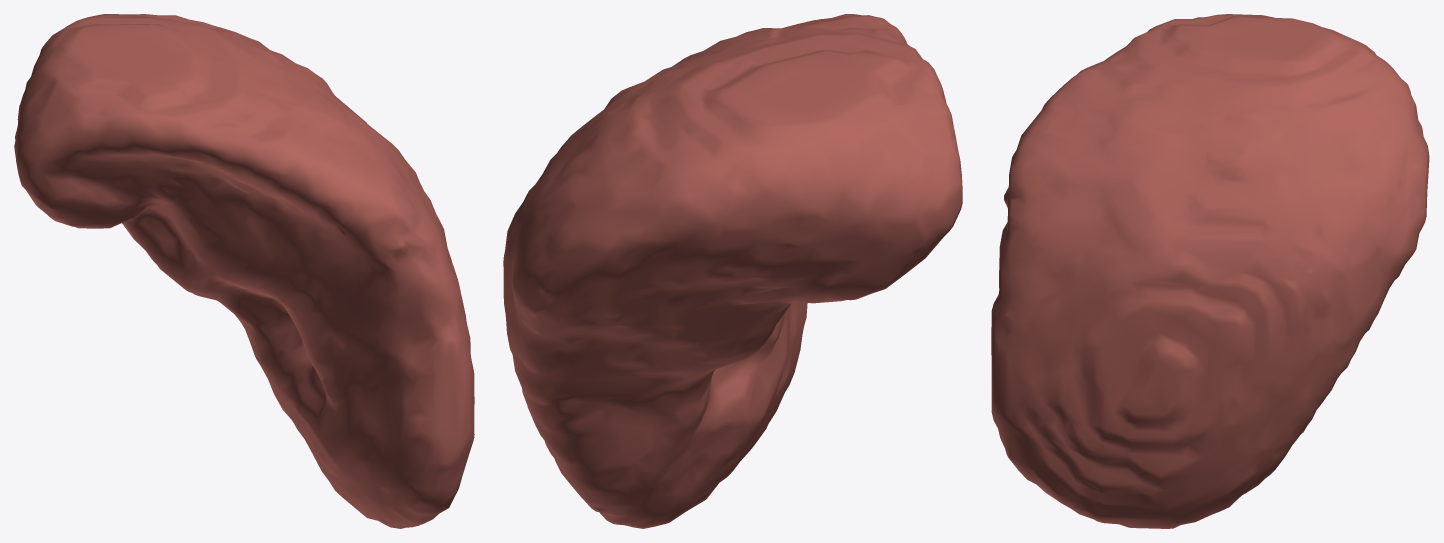
File: tsd_s0327_older_adult_male.lymphatic.LOD1.glb
3 views of the same model, side by side, from view 1: azimuth 30°, elevation 25°; view 2: azimuth 150°, elevation 25°; view 3: azimuth 270°, elevation 25° (orthographic). The views are drawn at different scales.
Parts seen in each view (by area): view 1: TSD_S0327.OLDER_ADULT.MALE.LYMPHATIC.SPLEEN; view 2: TSD_S0327.OLDER_ADULT.MALE.LYMPHATIC.SPLEEN; view 3: TSD_S0327.OLDER_ADULT.MALE.LYMPHATIC.SPLEEN.
Boxes of the visible parts, x1,y1,x2,y2 form: TSD_S0327.OLDER_ADULT.MALE.LYMPHATIC.SPLEEN: [14, 14, 474, 528]; TSD_S0327.OLDER_ADULT.MALE.LYMPHATIC.SPLEEN: [503, 14, 962, 528]; TSD_S0327.OLDER_ADULT.MALE.LYMPHATIC.SPLEEN: [991, 14, 1429, 528].
Bounding box in the file's own units: 0.0792 × 0.0946 × 0.0916.
